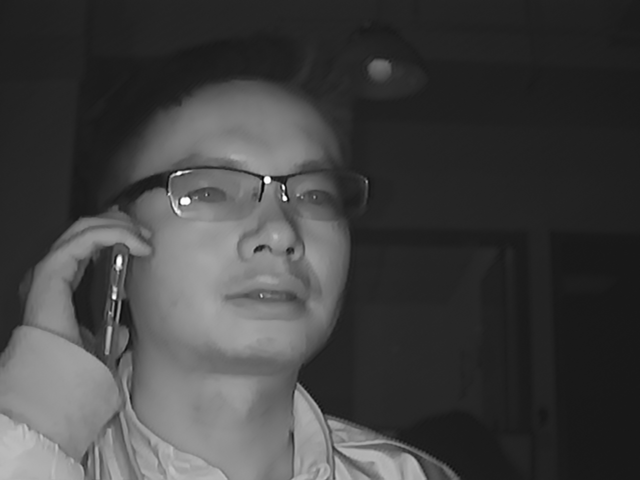hand: (33, 211, 151, 357)
